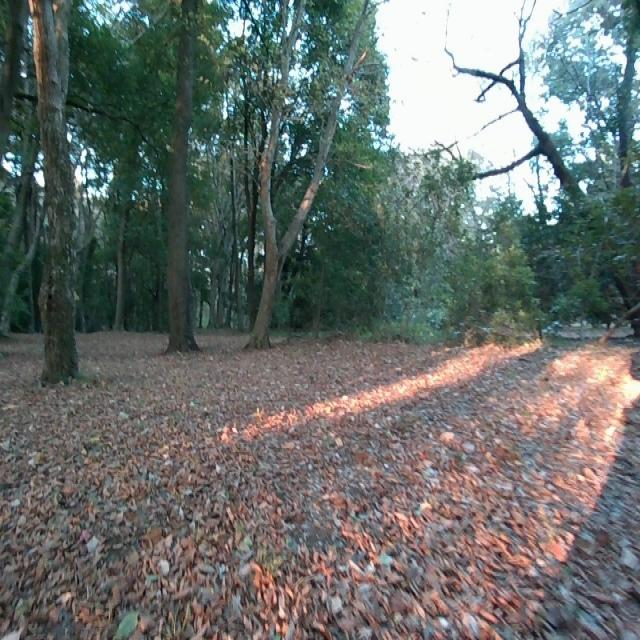bush: (449, 182, 640, 338), (280, 212, 414, 342)
tree: (241, 0, 341, 344), (25, 0, 75, 389), (156, 0, 201, 360)
